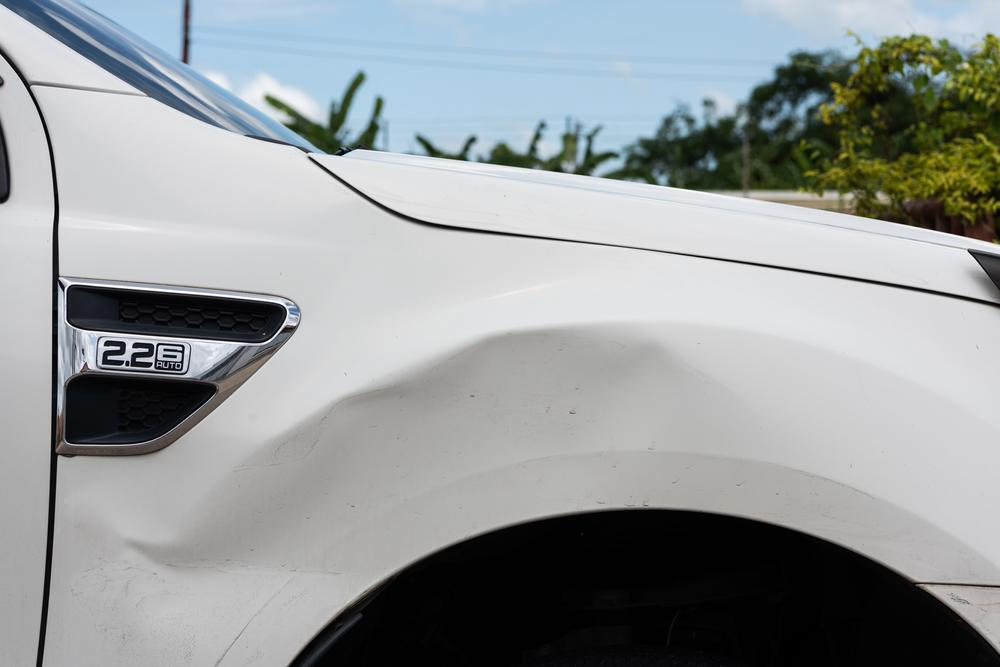dent: (123, 327, 731, 654)
